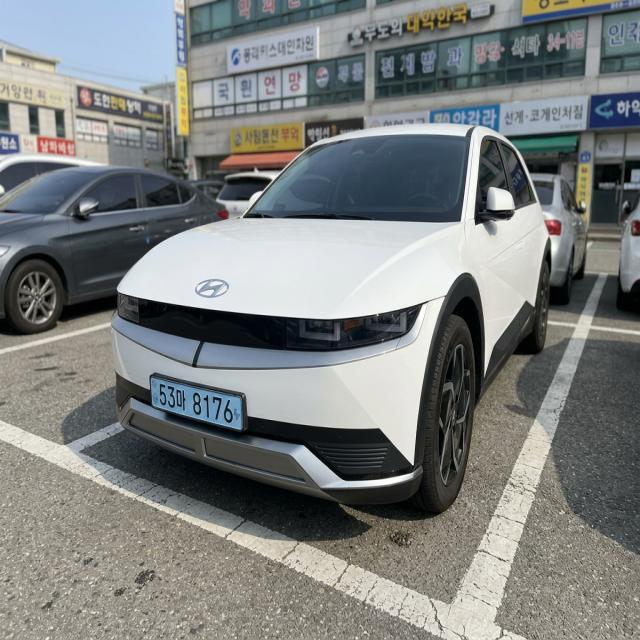car: (131, 370, 273, 440)
carev: (232, 393, 245, 430), (150, 377, 160, 412)
